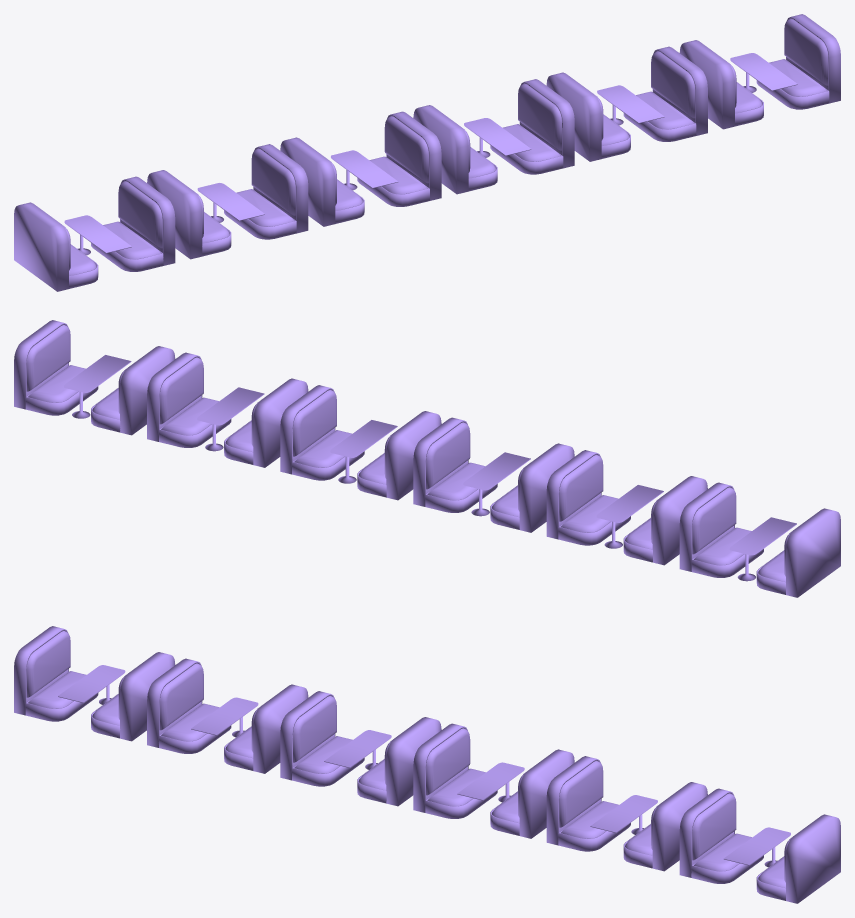
File: koltuklar.fbx
The picture shows the model from 3 angles, top to bottom: view 1: azimuth 30°, elevation 25°; view 2: azimuth 150°, elevation 25°; view 3: azimuth 330°, elevation 25°; orthographic projection.
Parts seen in each view (by area): view 1: Cube.006; view 2: Cube.006; view 3: Cube.006.
Boxes of the visible parts, x1=… form: Cube.006: x1=14, y1=14, x2=840, y2=291; Cube.006: x1=14, y1=320, x2=840, y2=597; Cube.006: x1=14, y1=626, x2=840, y2=903.
Bounding box in the file's own units: 4219 × 306 × 427.
